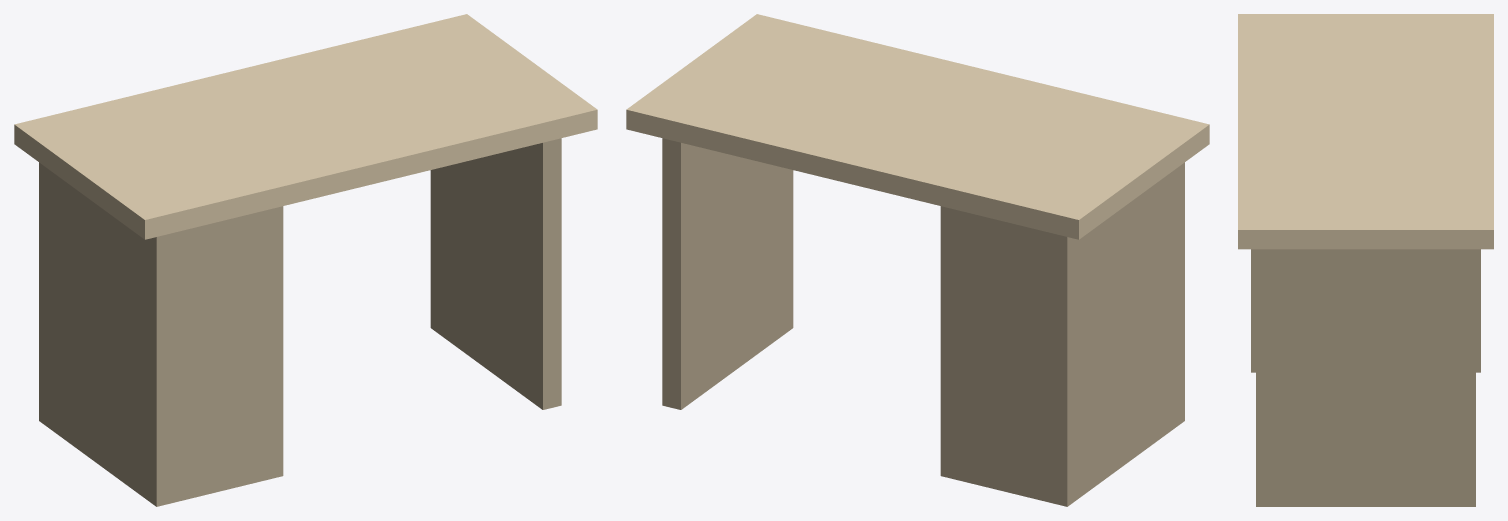
The model's file is escrivaninha.glb.
The picture shows the model from 3 angles, left to right: view 1: azimuth 30°, elevation 25°; view 2: azimuth 150°, elevation 25°; view 3: azimuth 270°, elevation 25°; orthographic projection. The views are drawn at different scales.
Size of the model in its own units: 1.2 by 0.75 by 0.6.
